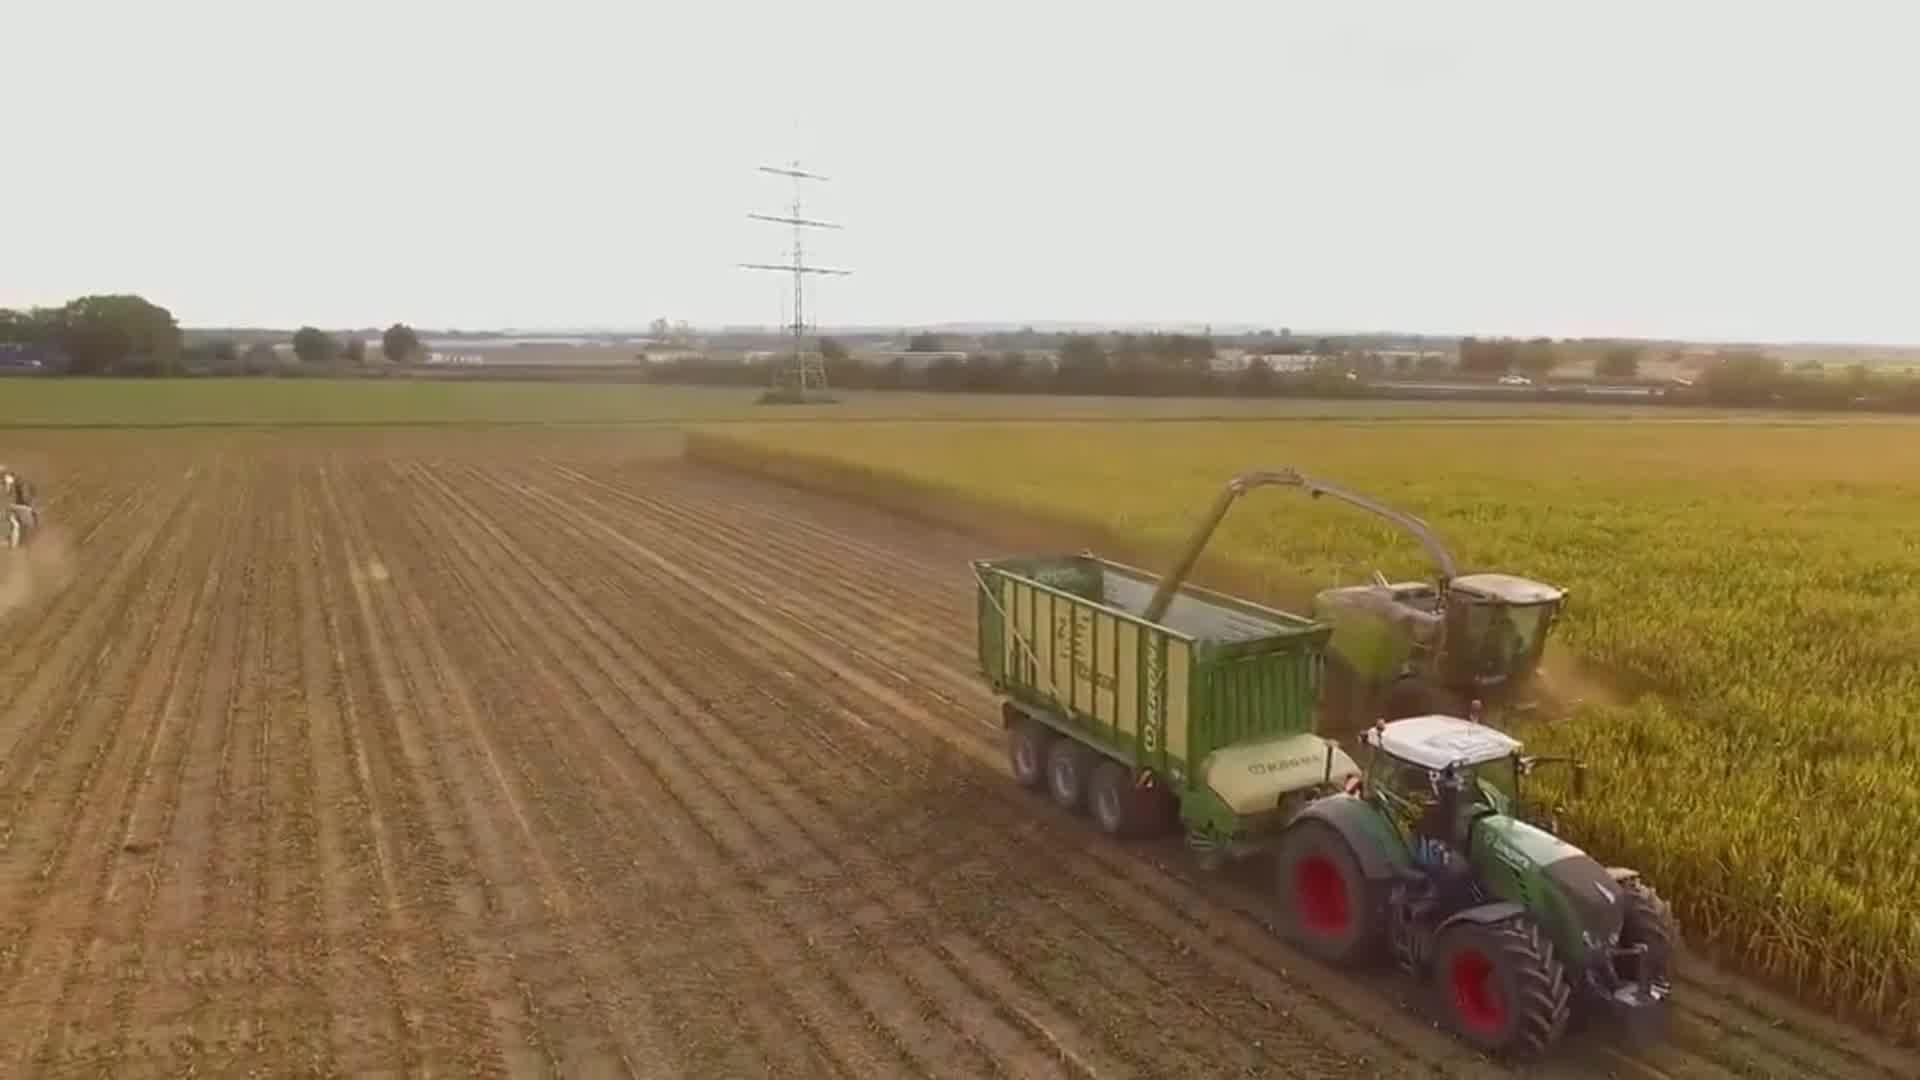combine harvester: (1201, 452, 1594, 760)
tractor: (1274, 707, 1701, 1056)
trailer: (947, 522, 1370, 864)
